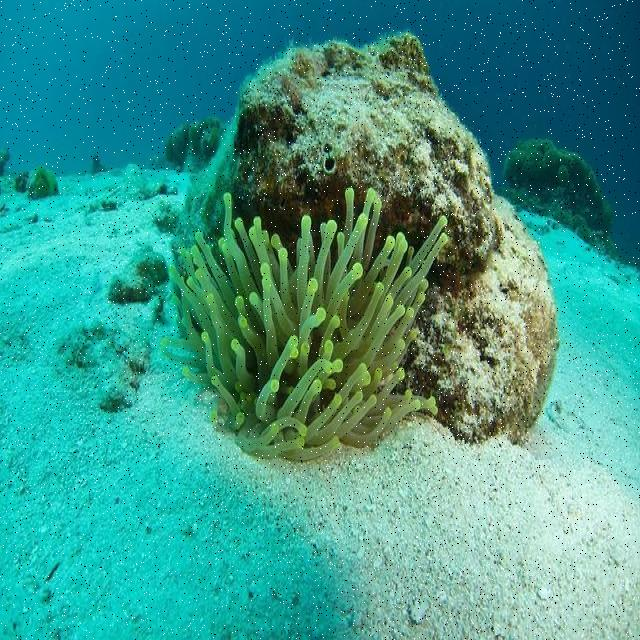reefs: (159, 186, 449, 463)
sea-floor: (169, 35, 559, 449), (497, 137, 616, 258), (165, 117, 229, 175)
